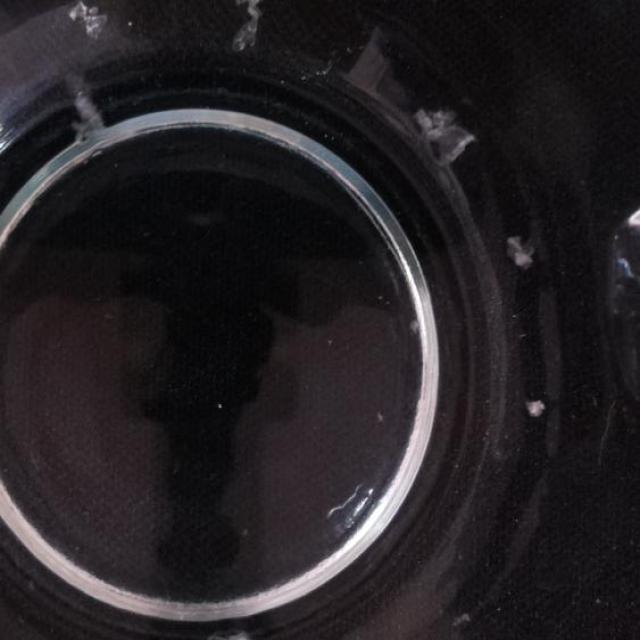fiber: (409, 102, 474, 168), (66, 81, 107, 161), (233, 0, 267, 60), (70, 2, 110, 40), (506, 228, 540, 270), (451, 606, 479, 638), (524, 396, 547, 418)
